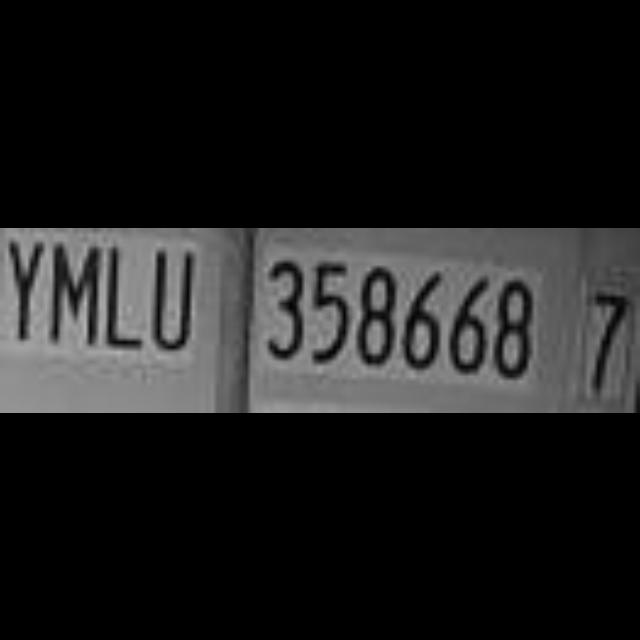3: (257, 251, 307, 367)
5: (310, 248, 354, 370)
6: (446, 264, 492, 382), (402, 258, 444, 384)
7: (583, 284, 633, 402)
8: (492, 266, 538, 386), (355, 252, 397, 374)
l: (105, 229, 147, 357)
m: (48, 228, 104, 358)
u: (150, 231, 200, 363)
y: (0, 227, 48, 355)
